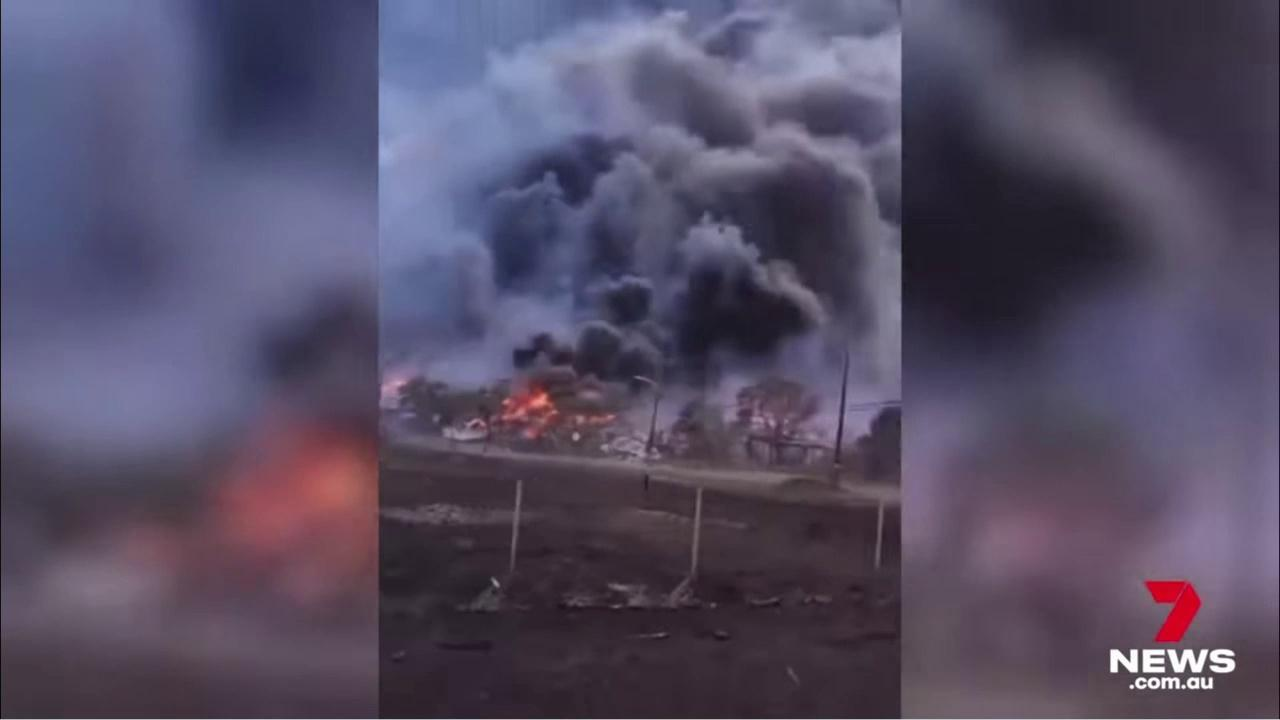fire: (493, 378, 562, 441), (380, 375, 410, 397), (589, 411, 618, 426)
smoke: (379, 0, 900, 444)
